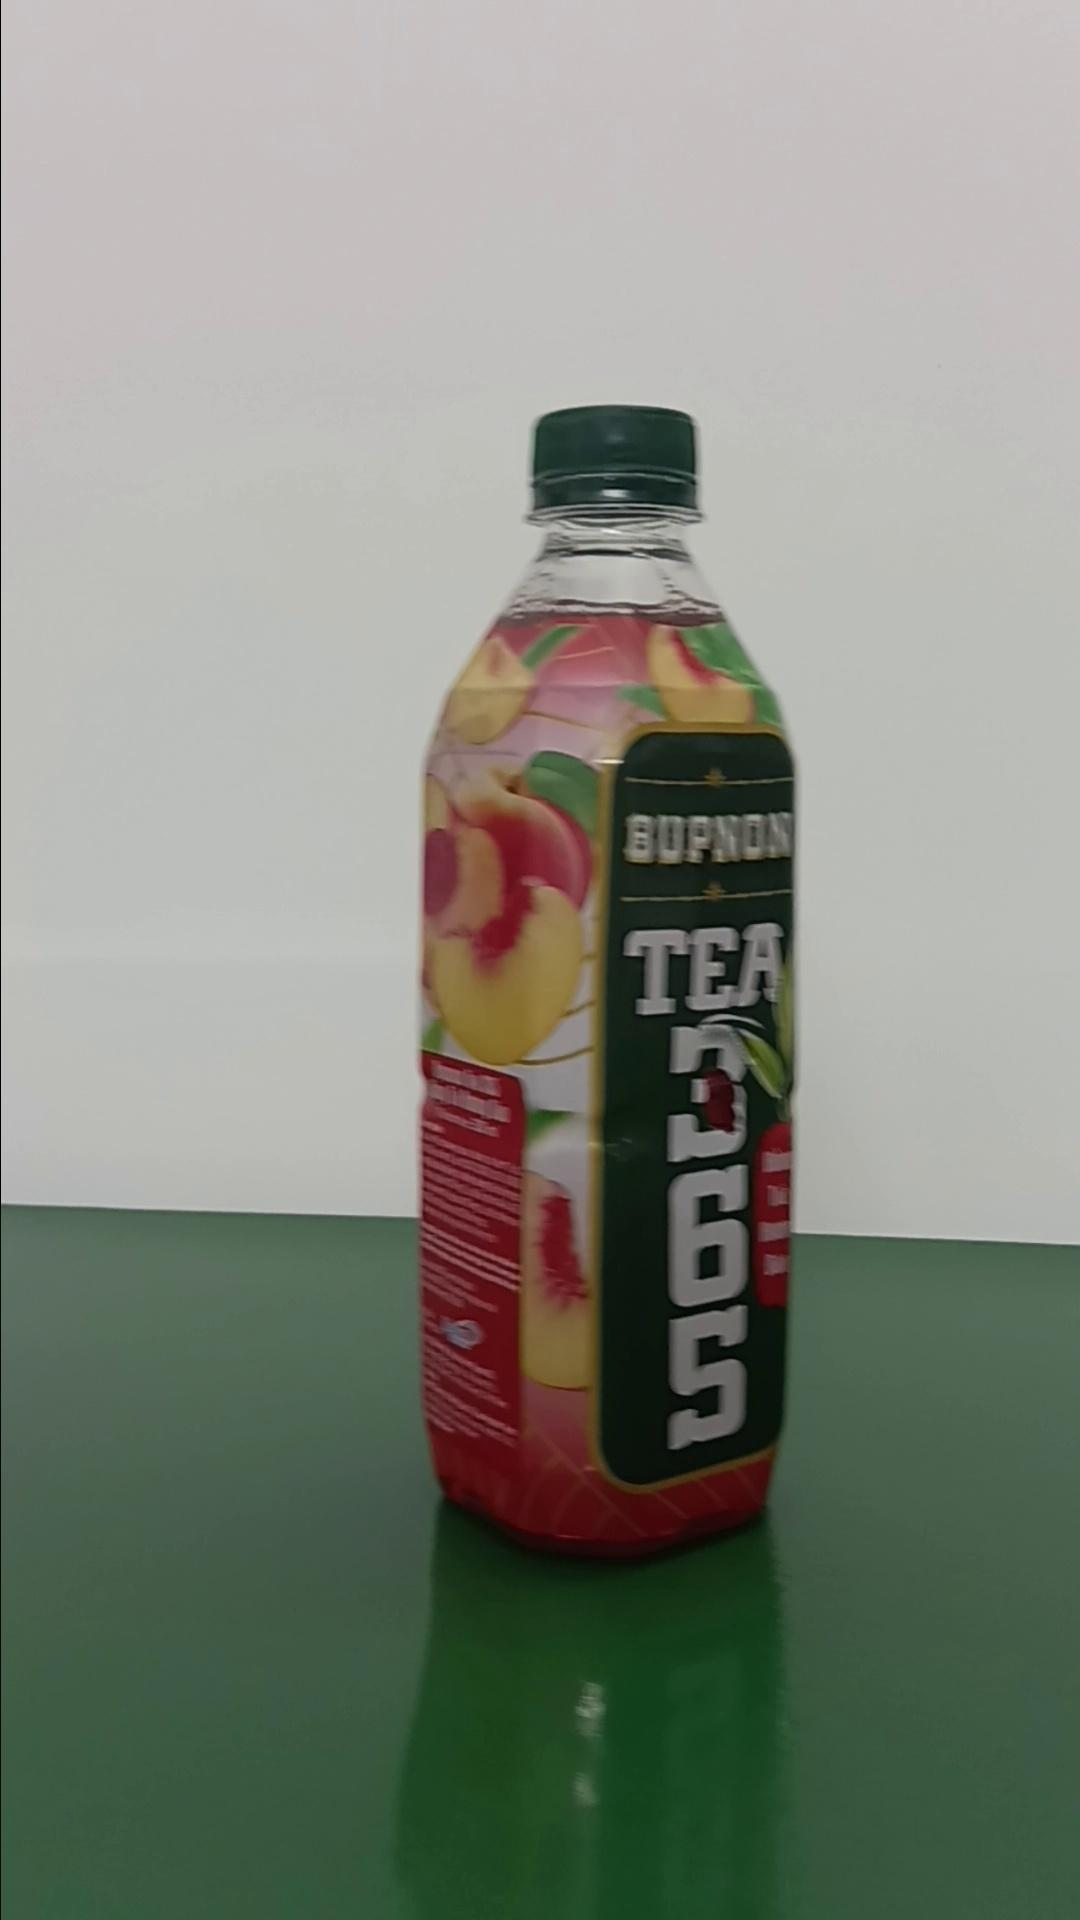loi rach va lap chai: (415, 390, 807, 1564)
